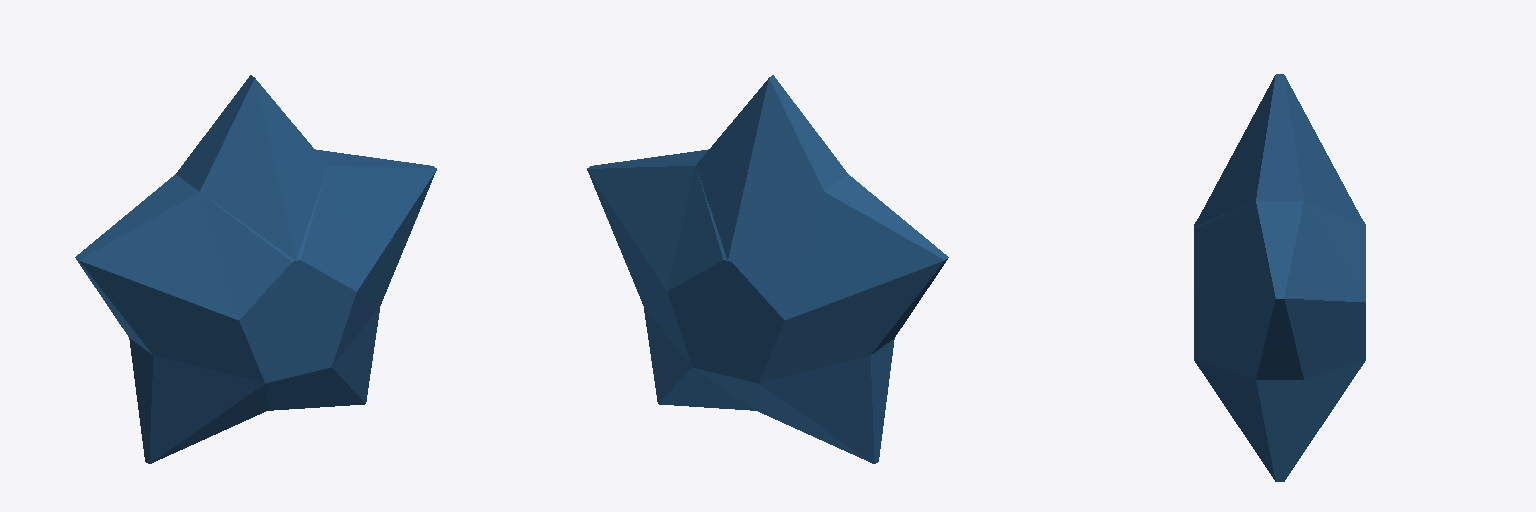
Rendered from star.obj.
The picture shows the model from 3 angles: view 1: azimuth 30°, elevation 25°; view 2: azimuth 150°, elevation 25°; view 3: azimuth 270°, elevation 25°; orthographic projection.
Parts seen in each view (by area): view 1: Cube.002_Cube.004; view 2: Cube.002_Cube.004; view 3: Cube.002_Cube.004.
Part boxes in pixels (bbox=[...]): Cube.002_Cube.004: bbox=[75, 75, 436, 463]; Cube.002_Cube.004: bbox=[587, 75, 948, 463]; Cube.002_Cube.004: bbox=[1194, 74, 1365, 481].
Size of the model in its own units: 3.13 by 3.02 by 1.31.